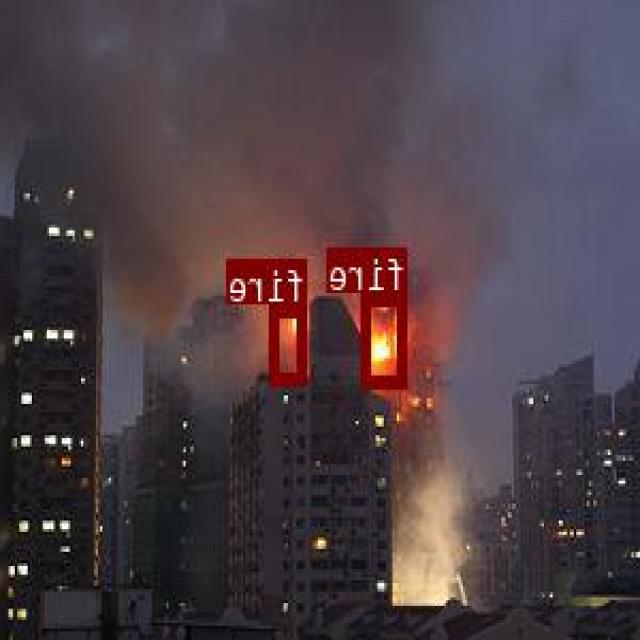fire: (364, 293, 409, 385), (272, 304, 308, 382)
